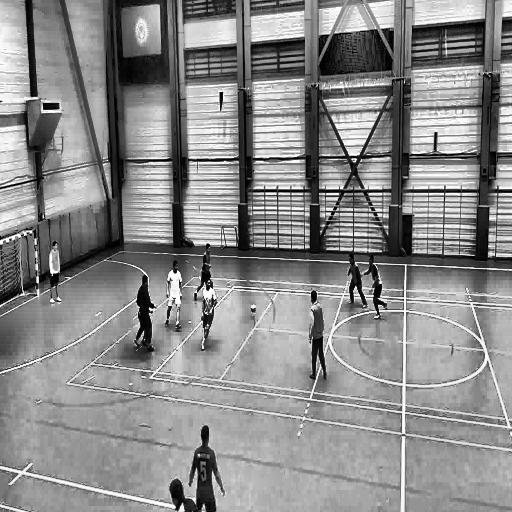ball: (250, 302, 257, 314)
player: (190, 424, 224, 512), (308, 287, 329, 382), (362, 250, 389, 320), (164, 259, 184, 333), (200, 275, 217, 351), (346, 250, 367, 310), (194, 241, 213, 297), (142, 277, 156, 352), (48, 239, 63, 307), (134, 276, 148, 348)
